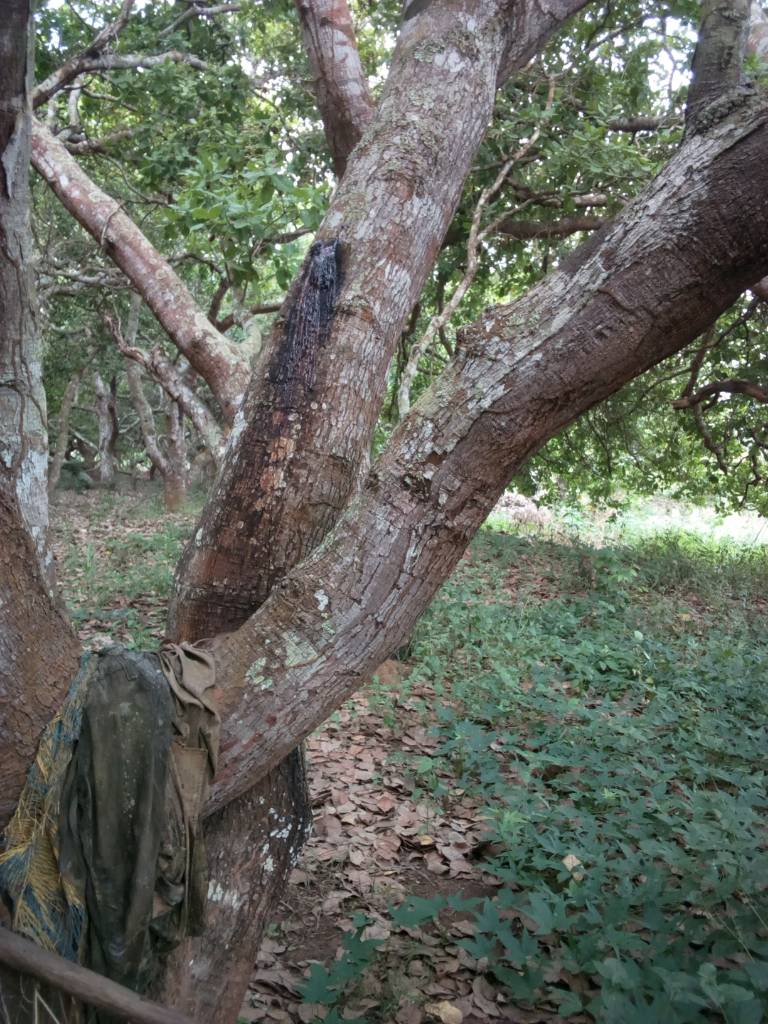Mecocorynus longiceps: (239, 220, 381, 435)
